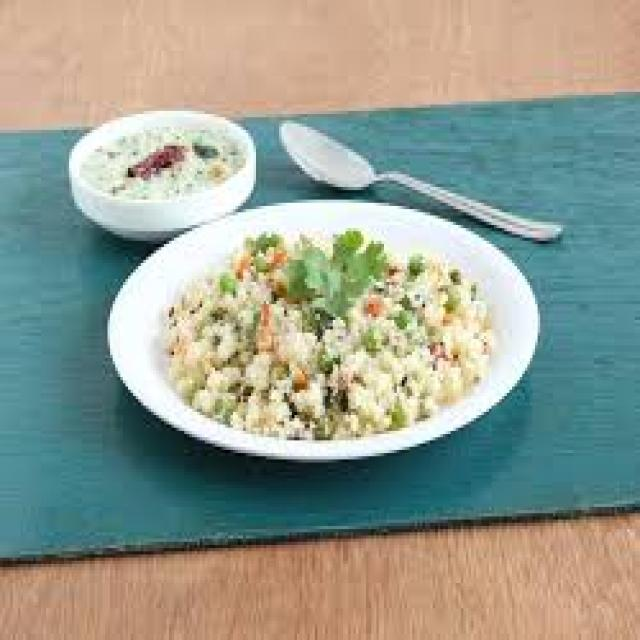UPMA: (164, 231, 492, 434)
